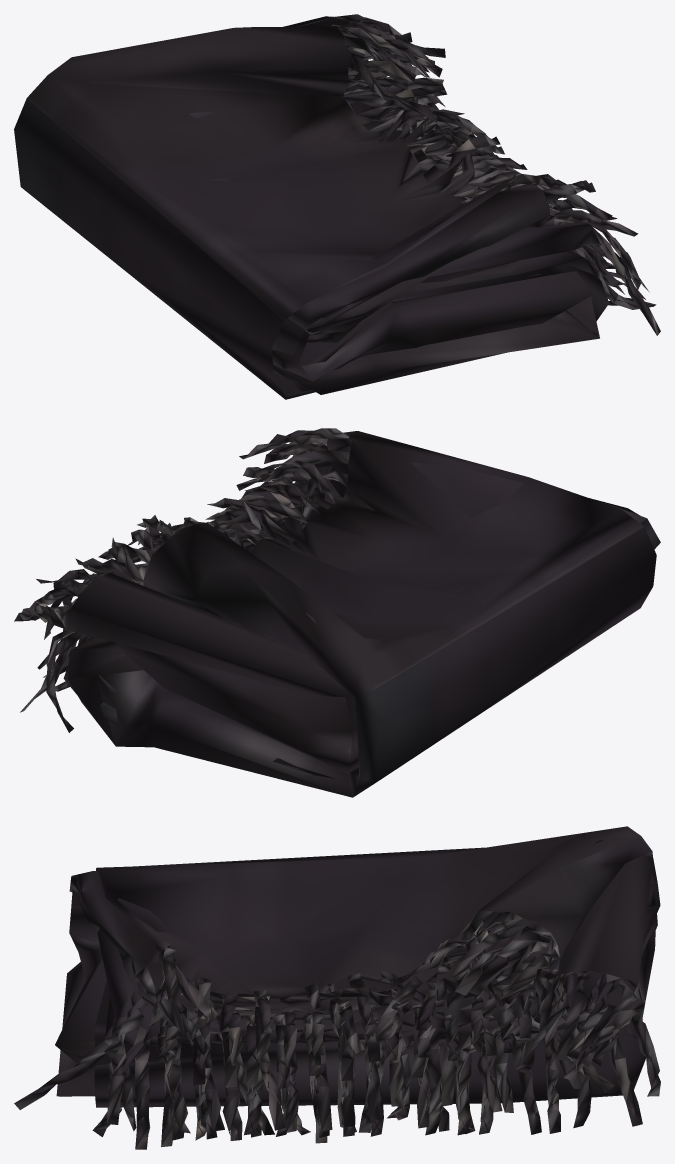
File: hvfold_Plaid_03_knitted001.glb
3 views of the same model, one above another, from view 1: azimuth 30°, elevation 25°; view 2: azimuth 150°, elevation 25°; view 3: azimuth 270°, elevation 25° (orthographic). The views are drawn at different scales.
Visible parts, largest first — view 1: BP_Plaid_03_knitted001; view 2: BP_Plaid_03_knitted001; view 3: BP_Plaid_03_knitted001.
Boxes of the visible parts, x1,y1,x2,y2 form: BP_Plaid_03_knitted001: (14, 14, 660, 399); BP_Plaid_03_knitted001: (14, 428, 660, 797); BP_Plaid_03_knitted001: (14, 826, 660, 1149).
Size of the model in its own units: 0.3123 by 0.1342 by 0.4311.
Materials: 1 (1 with a texture image).
